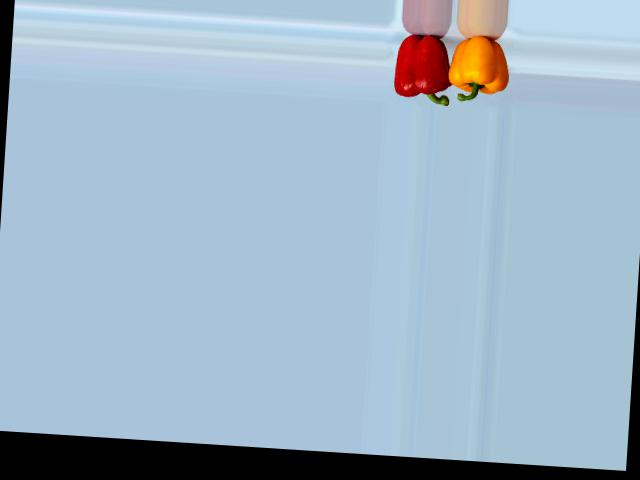bell_pepper: (387, 25, 455, 103)
